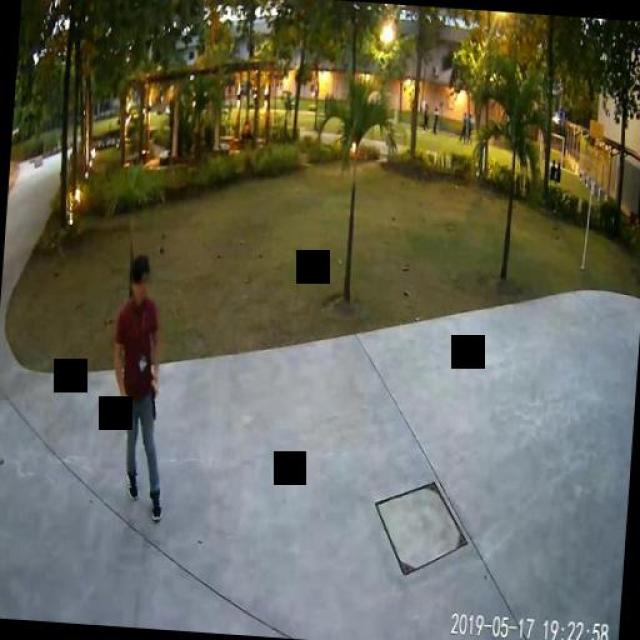gun: (148, 379, 158, 419)
